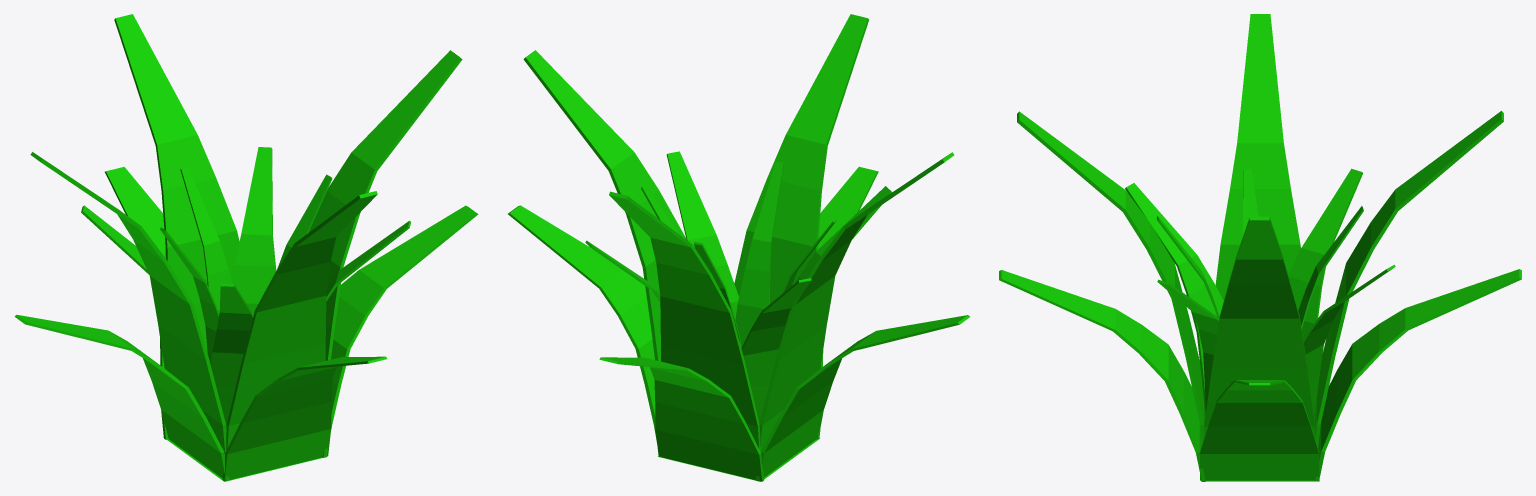
Rendered from Flower2.fbx.
The picture shows the model from 3 angles, left to right: view 1: azimuth 30°, elevation 25°; view 2: azimuth 150°, elevation 25°; view 3: azimuth 270°, elevation 25°; orthographic projection.
Parts seen in each view (by area): view 1: Fern.001; view 2: Fern.001; view 3: Fern.001.
Part boxes in pixels (box(x1,y1,x2,y2)): Fern.001: box(14, 14, 478, 481); Fern.001: box(508, 14, 969, 481); Fern.001: box(999, 14, 1521, 481).
Size of the model in its own units: 81.73 by 82.11 by 59.13.
